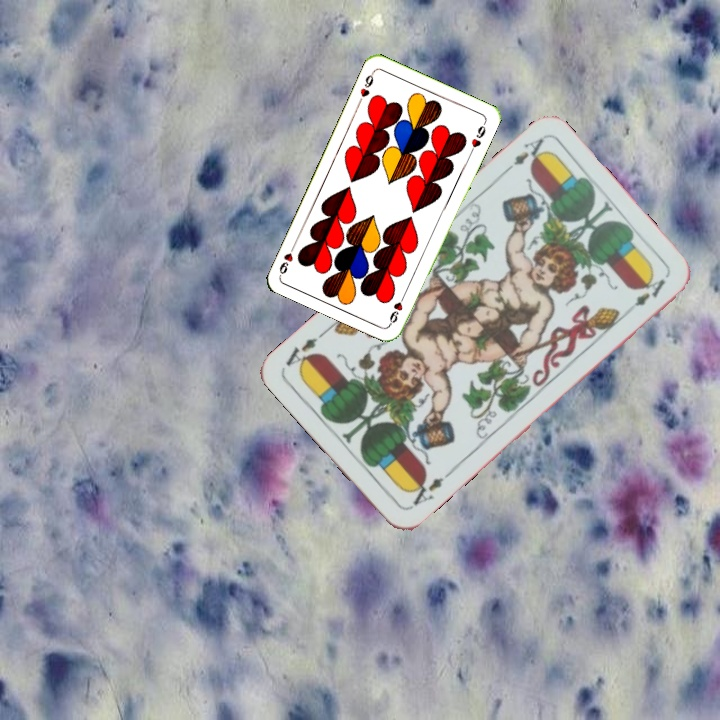EA: (404, 467, 454, 512), (498, 134, 549, 177)
H9: (354, 67, 377, 106), (385, 289, 408, 327)
